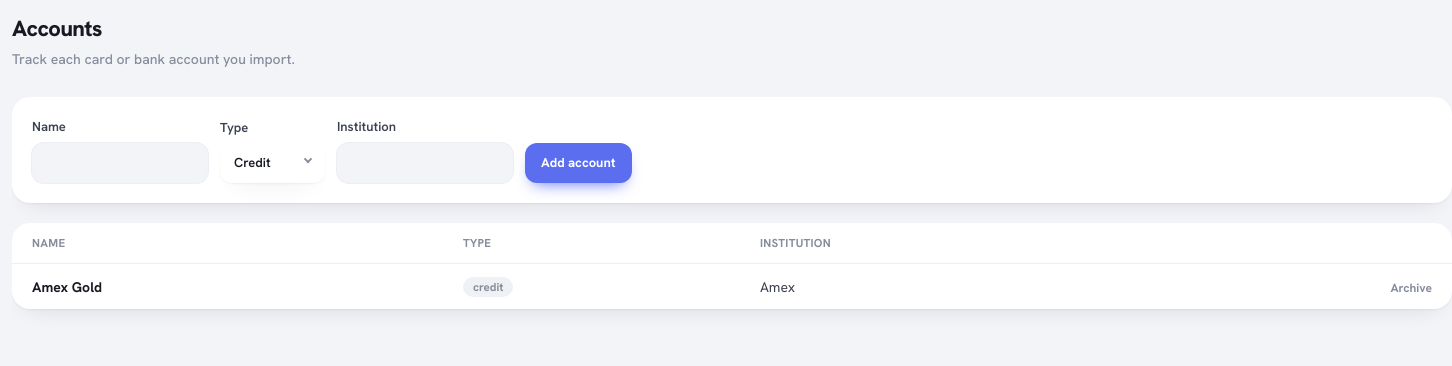
Test: surfaces an error when archive fails
Expected: the text "Amex Gold" is shown, [12,263,451,309]
Click the button with aria-label "archive amex gold". click: (1411, 288)
box: [1390,280,1432,296]
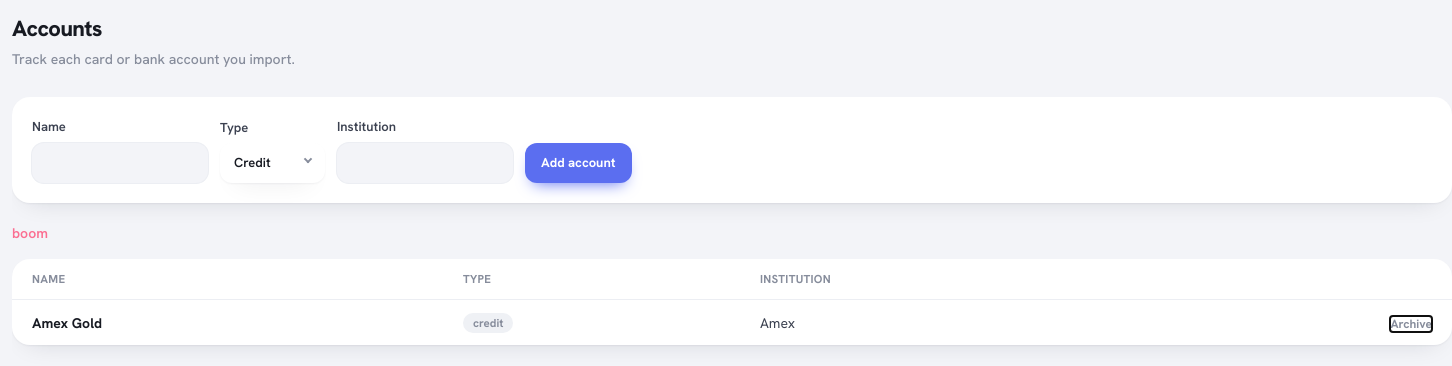
Result: the text "boom" is shown at [12,224,48,242]
